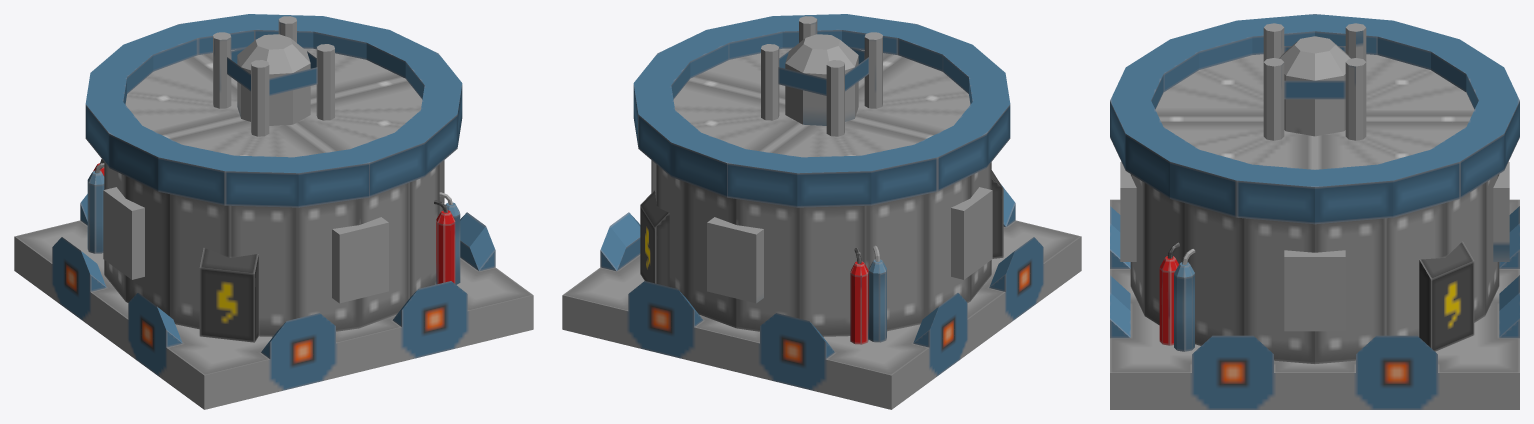
File: cyclotron.obj
3 views of the same model, side by side, from view 1: azimuth 30°, elevation 25°; view 2: azimuth 150°, elevation 25°; view 3: azimuth 270°, elevation 25° (orthographic). The views are drawn at different scales.
Parts seen in each view (by area): view 1: B4; view 2: B4; view 3: B4.
Part boxes in pixels (<box>): B4: <box>14,14,533,409</box>; B4: <box>562,14,1081,409</box>; B4: <box>1110,14,1519,409</box>.
Size of the model in its own units: 5 by 3.75 by 5.
